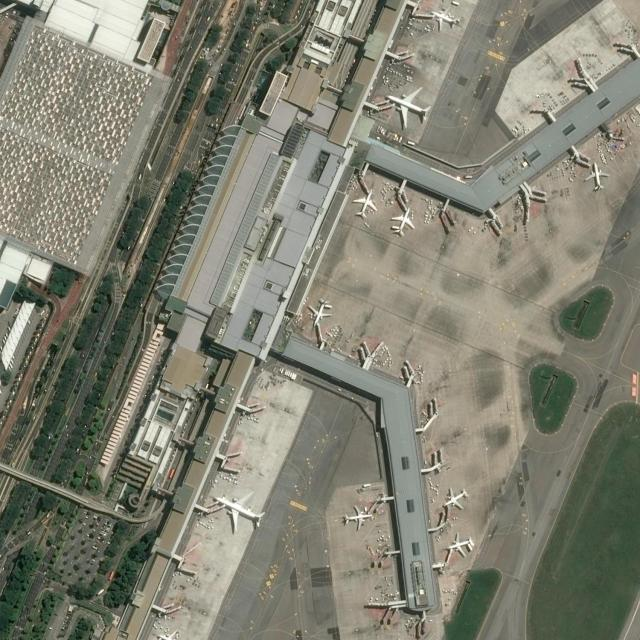Aircraft: (213, 488, 263, 531), (385, 85, 431, 130), (352, 188, 380, 224), (340, 501, 371, 529), (429, 5, 459, 33), (392, 204, 416, 239), (441, 485, 471, 513), (582, 161, 610, 189), (444, 534, 474, 557), (306, 299, 330, 321), (157, 628, 184, 640)
